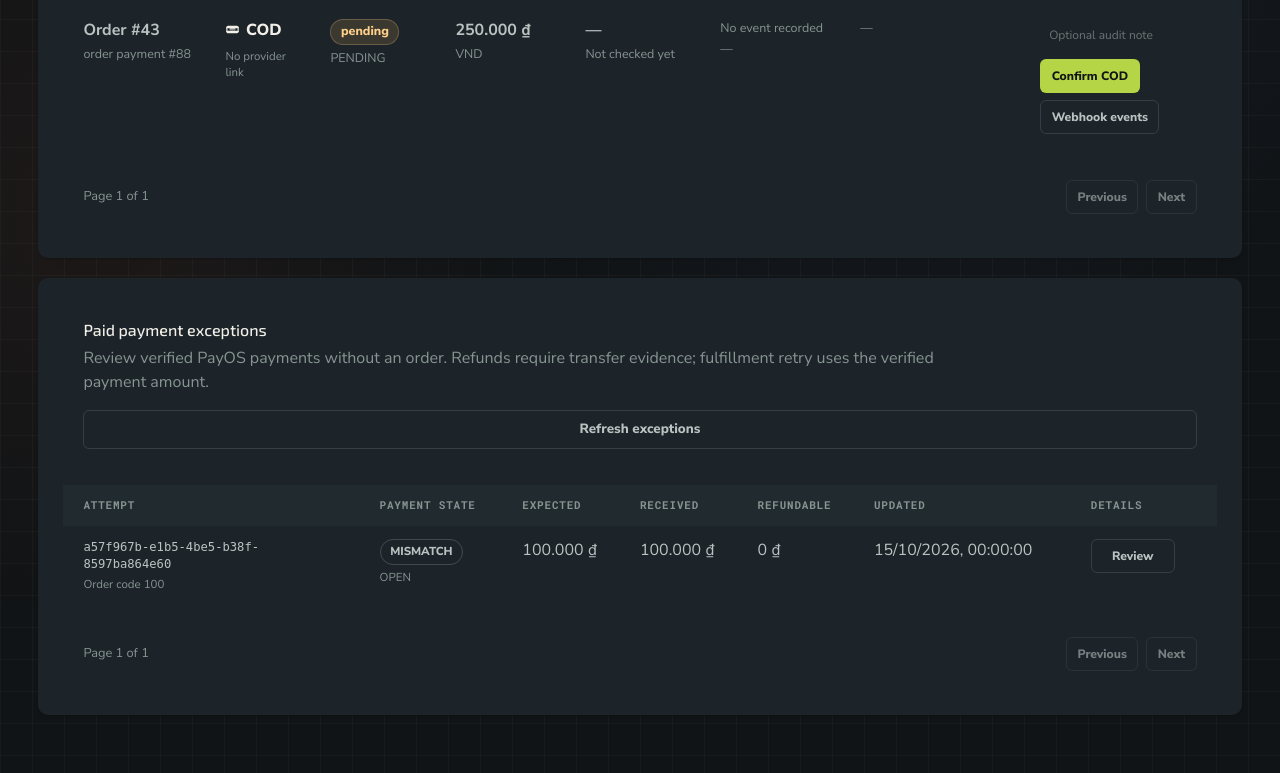
it: AdminPaymentReconciliationPage › disables refund submission when evidence or a valid balance amount is missing
(page scrolled)
Step 1. Click the button "Review" → point(1133, 556), box [1091,539,1175,573]
(page scrolled)
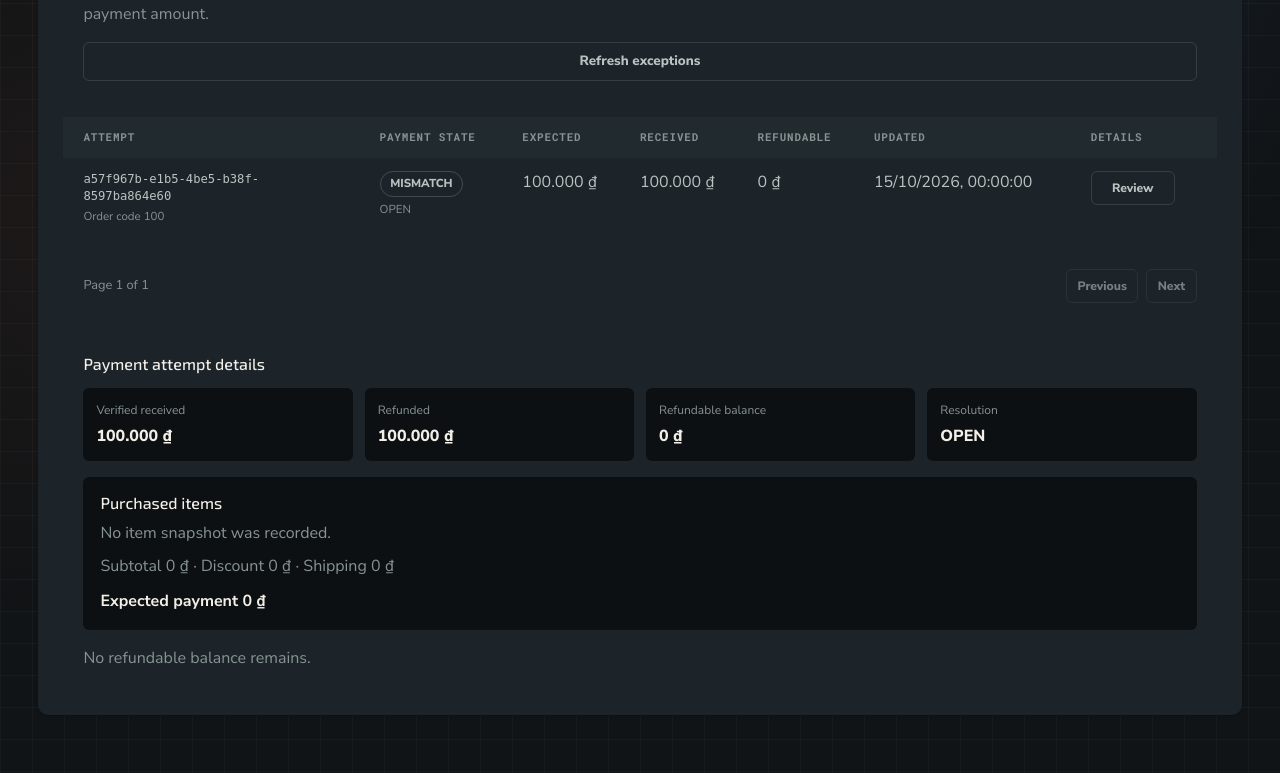
Expected: the text "No refundable balance remains." is shown, [83,647,311,669]
